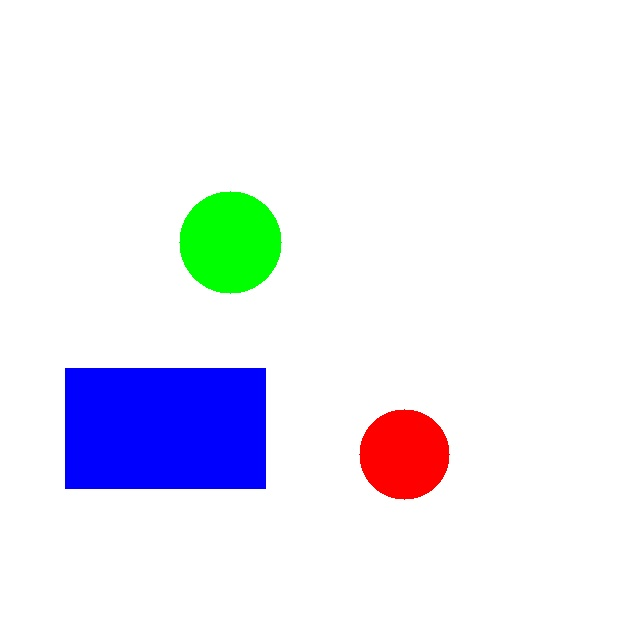cartao: (65, 368, 265, 488)
rosca_externa: (179, 191, 281, 293)
rosca_interna: (359, 409, 449, 499)
